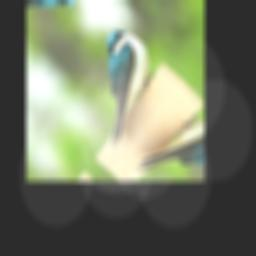Swallow: (60, 19, 175, 150)
